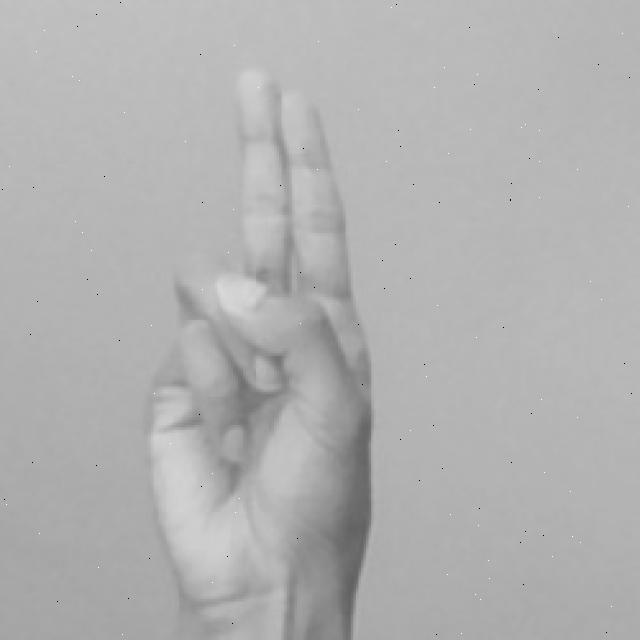U: (132, 64, 387, 640)
